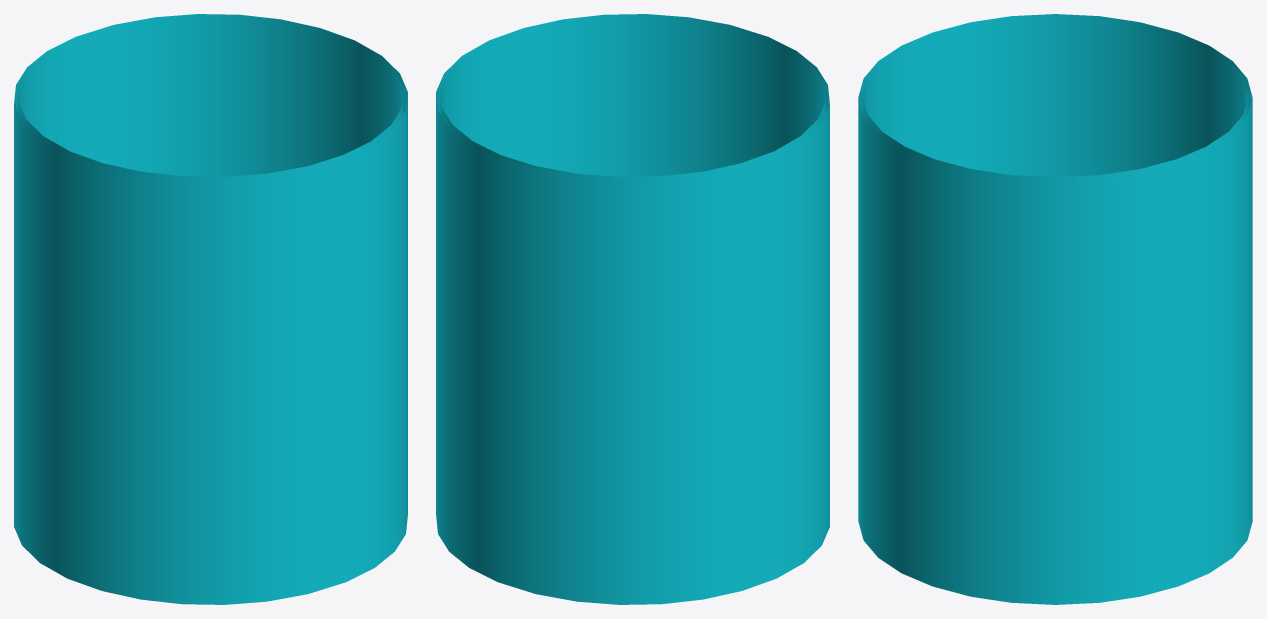
The model's file is export_cylindrical.fbx.
The picture shows the model from 3 angles, left to right: view 1: azimuth 30°, elevation 25°; view 2: azimuth 150°, elevation 25°; view 3: azimuth 270°, elevation 25°; orthographic projection.
Visible parts, largest first — view 1: Shape001; view 2: Shape001; view 3: Shape001.
Part boxes in pixels (x1=…): Shape001: x1=14, y1=14, x2=407, y2=604; Shape001: x1=436, y1=14, x2=829, y2=604; Shape001: x1=858, y1=14, x2=1252, y2=604.
Bounding box in the file's own units: 666 × 797 × 666.
